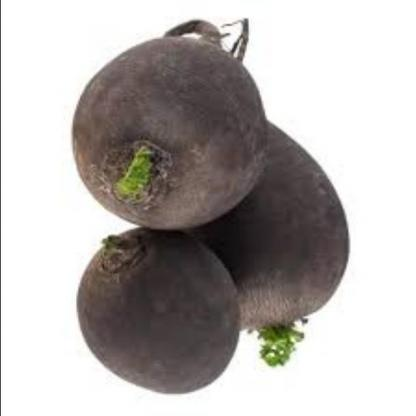redka: (63, 32, 267, 232), (214, 118, 350, 331), (75, 225, 242, 396)
